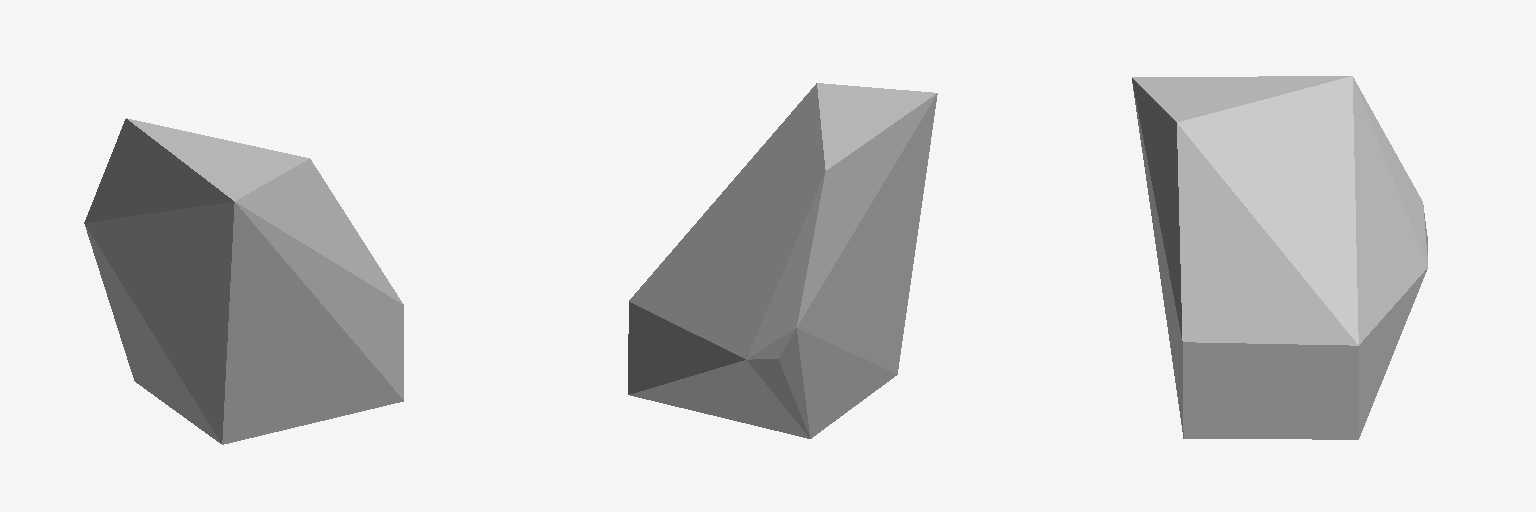
File: trash_bin_collision_55.obj
The picture shows the model from 3 angles: view 1: azimuth 30°, elevation 25°; view 2: azimuth 150°, elevation 25°; view 3: azimuth 270°, elevation 25°; orthographic projection.
Bounding box in the file's own units: 0.0234 × 0.03 × 0.03.